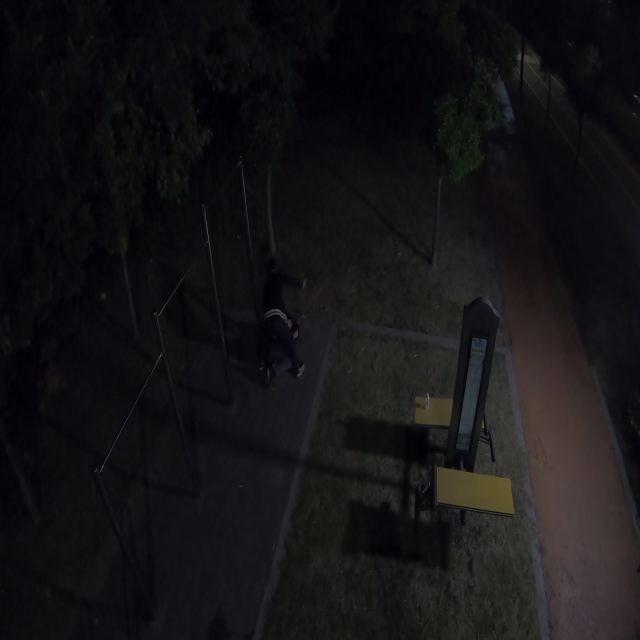fight: (257, 263, 309, 385)
